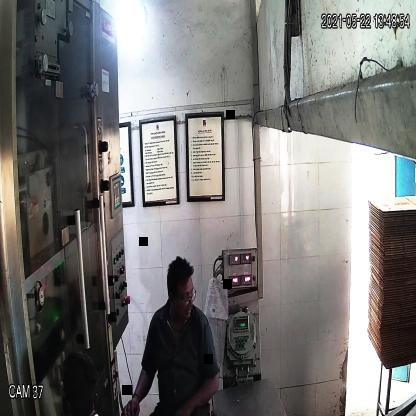goggles: (165, 287, 198, 308)
